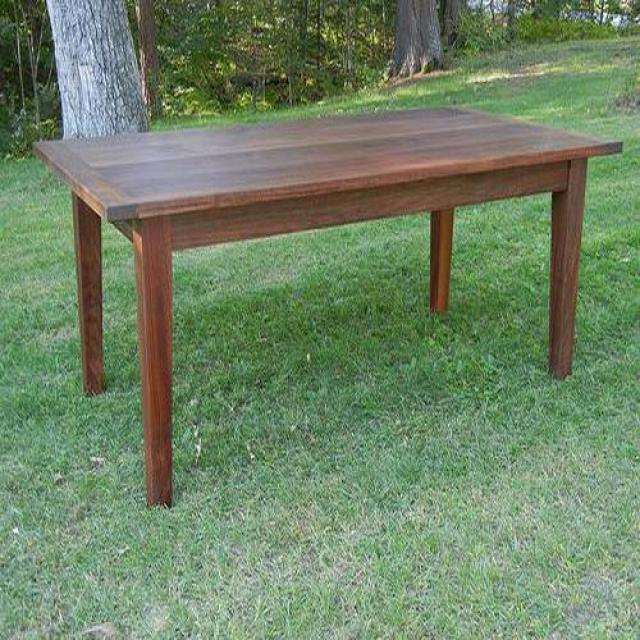table: (36, 109, 625, 509)
